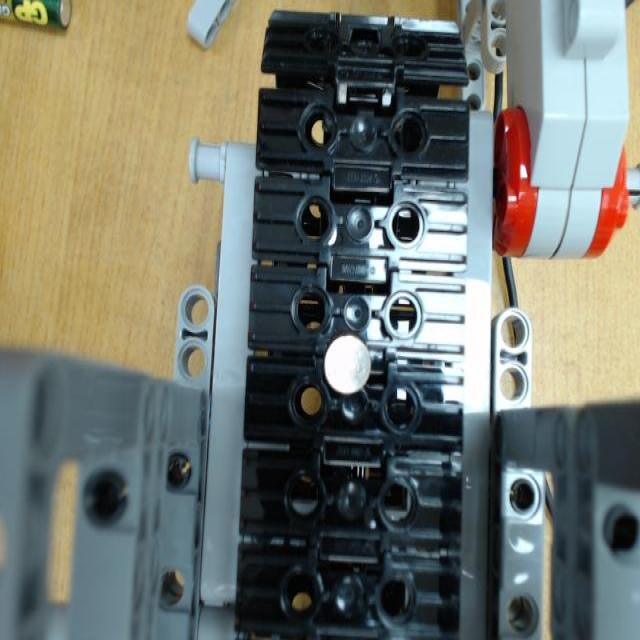COIN: (323, 333, 372, 399)
